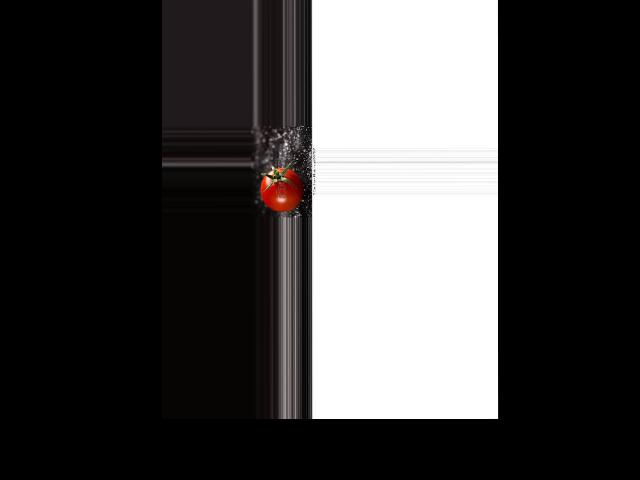tomato: (260, 167, 303, 211)
